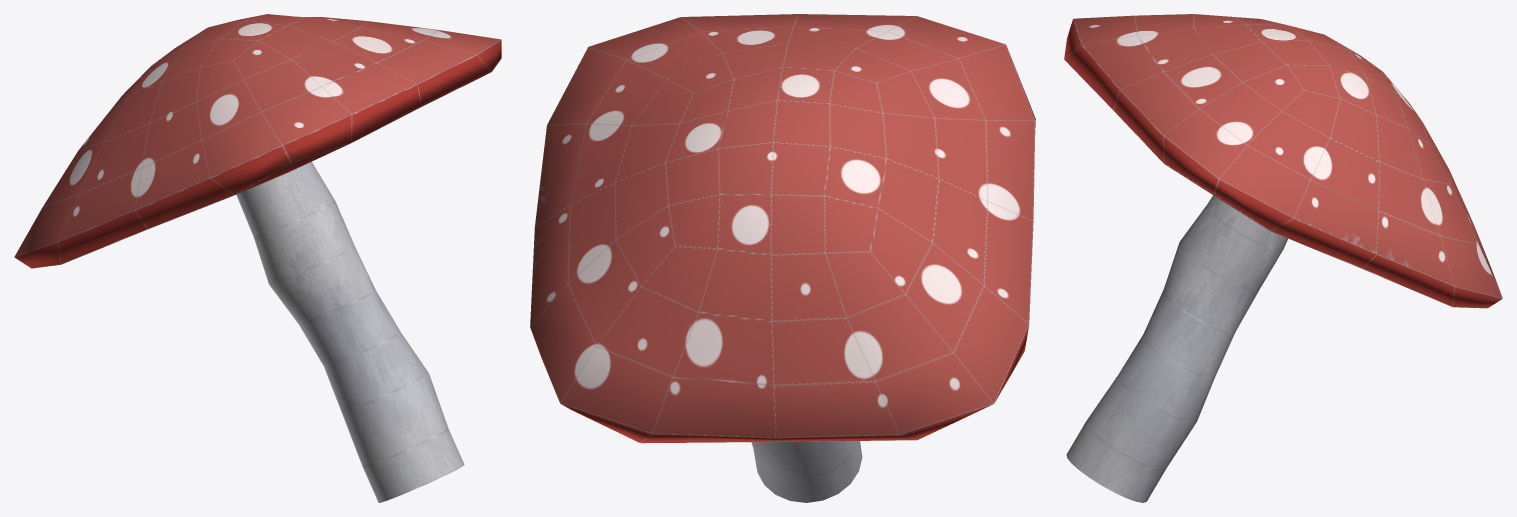
Rendered from MushroomAlternative3.fbx.
The picture shows the model from 3 angles, left to right: view 1: azimuth 30°, elevation 25°; view 2: azimuth 150°, elevation 25°; view 3: azimuth 270°, elevation 25°; orthographic projection. The views are drawn at different scales.
Visible parts, largest first — view 1: pCylinder15; view 2: pCylinder15; view 3: pCylinder15.
Boxes of the visible parts, x1=… form: pCylinder15: x1=14, y1=14, x2=501, y2=502; pCylinder15: x1=530, y1=14, x2=1035, y2=502; pCylinder15: x1=1064, y1=14, x2=1502, y2=502.
Size of the model in its own units: 0.4504 by 0.442 by 0.4074.
1 material, 1 textured.
